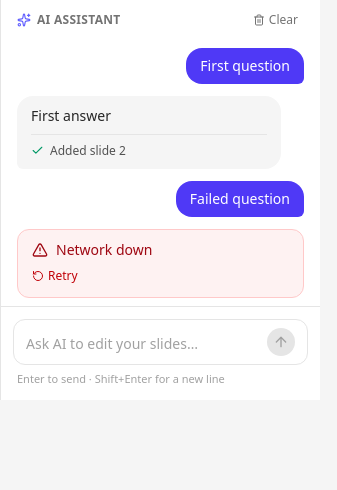
Test: ChatPanel › sends the earlier conversation with the new message
Type "Second question" into the text box named "Message the AI assistant" at (142, 344), box x1=26 y1=332 x2=259 y2=356
Then press Enter
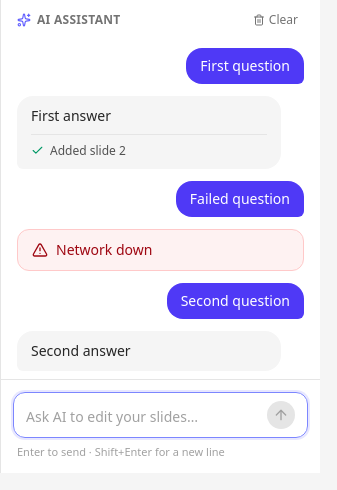
Expected: the text "Second answer" is shown, x1=31 y1=341 x2=131 y2=360
